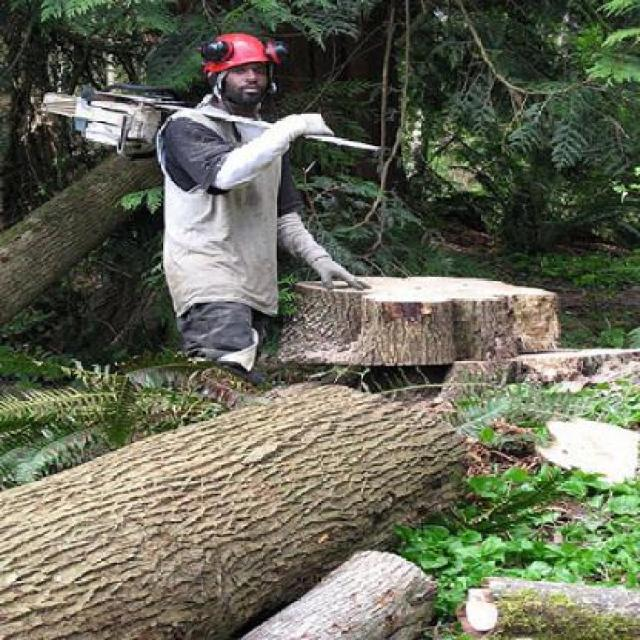Chainsaw: (31, 83, 382, 162)
